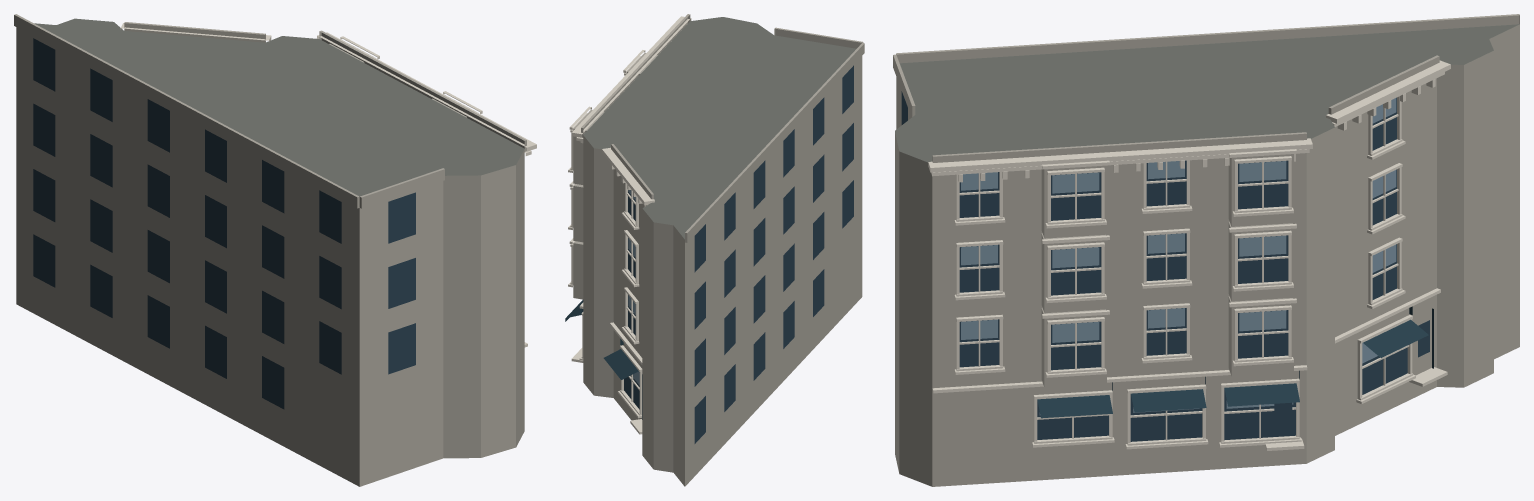
3 renders of one model, left to right at view 1: azimuth 30°, elevation 25°; view 2: azimuth 150°, elevation 25°; view 3: azimuth 270°, elevation 25°, orthographic. The views are drawn at different scales.
Parts seen in each view (by area): view 1: Footprint 0 / surface 2, Footprint 0 / surface 1, Inset glazing, Facade bay volumes, Cornices and window frames; view 2: Footprint 0 / surface 2, Footprint 0 / surface 1, Inset glazing, Facade bay volumes, Cornices and window frames, Storefronts and doors; view 3: Footprint 0 / surface 2, Footprint 0 / surface 1, Cornices and window frames, Inset glazing, Facade bay volumes, Sky reflection panels, Storefronts and doors.
Boxes of the visible parts, box(x1,y1,x2,y2) form: Footprint 0 / surface 2: box(16, 27, 524, 486); Footprint 0 / surface 1: box(34, 18, 524, 196); Inset glazing: box(33, 38, 415, 409); Facade bay volumes: box(14, 14, 526, 208); Cornices and window frames: box(120, 23, 536, 347); Footprint 0 / surface 2: box(583, 56, 862, 486); Footprint 0 / surface 1: box(583, 17, 856, 239); Inset glazing: box(624, 65, 853, 443); Facade bay volumes: box(573, 14, 864, 299); Cornices and window frames: box(568, 16, 691, 434); Storefronts and doors: box(565, 300, 642, 419); Footprint 0 / surface 2: box(895, 24, 1519, 486); Footprint 0 / surface 1: box(895, 24, 1519, 162); Cornices and window frames: box(928, 60, 1450, 450); Inset glazing: box(901, 91, 1429, 441); Facade bay volumes: box(893, 14, 1519, 387); Sky reflection panels: box(961, 98, 1396, 415); Storefronts and doors: box(1037, 306, 1433, 418).
Size of the model in its own units: 12.46 by 13.05 by 22.35.
